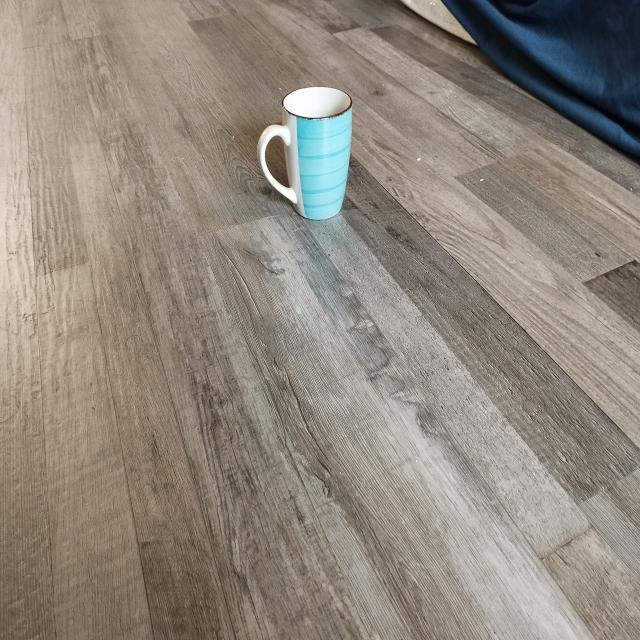Cup: (254, 76, 380, 236)
